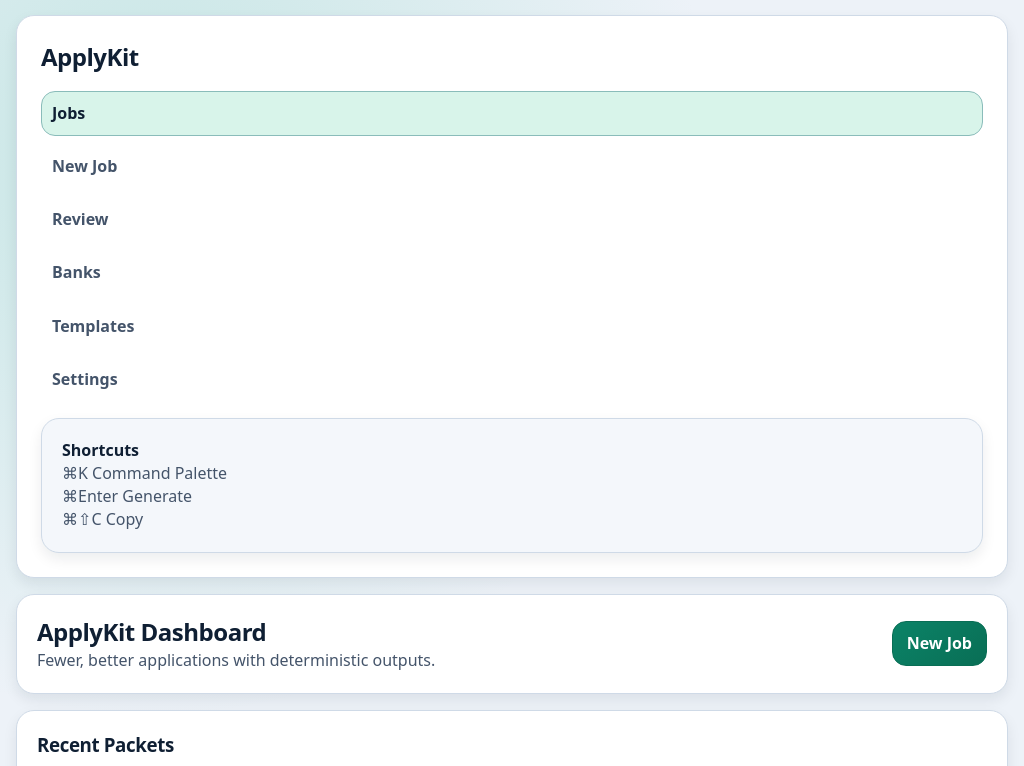
Scenario: App workflow integration › starts a new job from the dashboard hero action
Check: the element "ApplyKit Dashboard" is shown, box top-left (16, 594), bottom-right (1008, 694)
Click the button "New Job" in the row of "ApplyKit Dashboard" at (939, 644), box top-left (892, 621), bottom-right (987, 666)
(page scrolled)
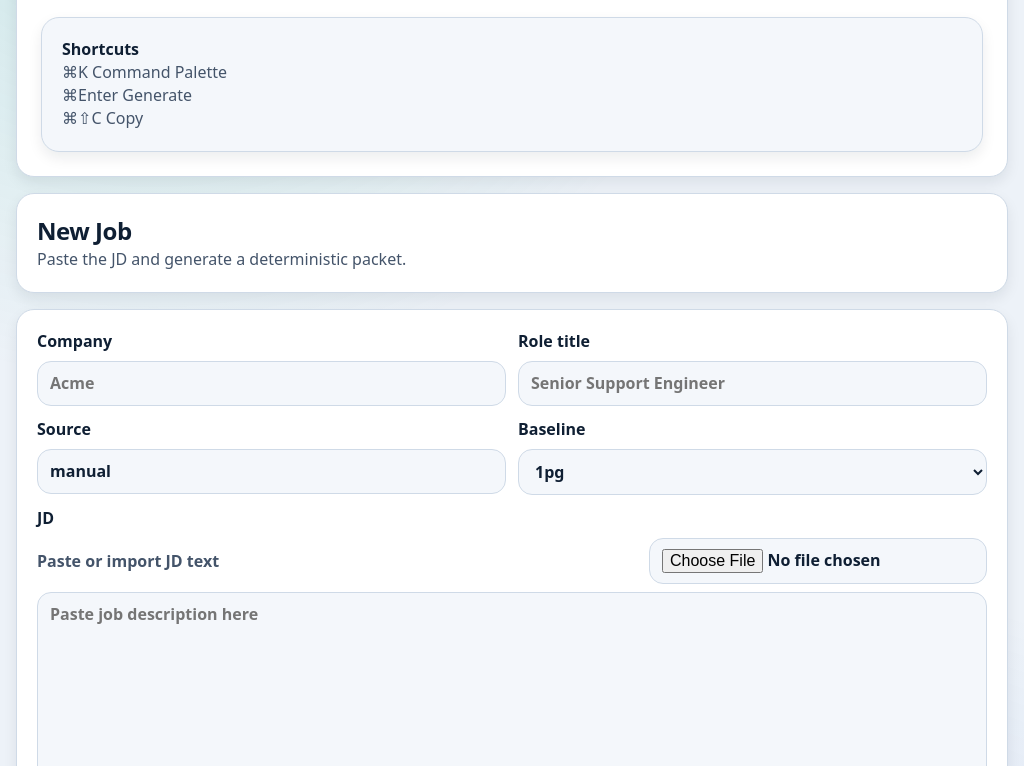
Check: the field with placeholder "Acme" is shown, box top-left (37, 361), bottom-right (506, 406)
